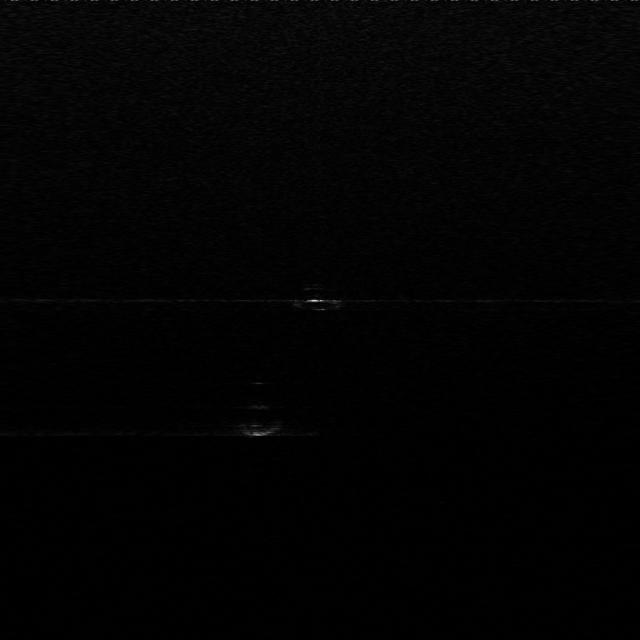ball: (228, 395, 294, 441)
tyre: (293, 282, 349, 316)
